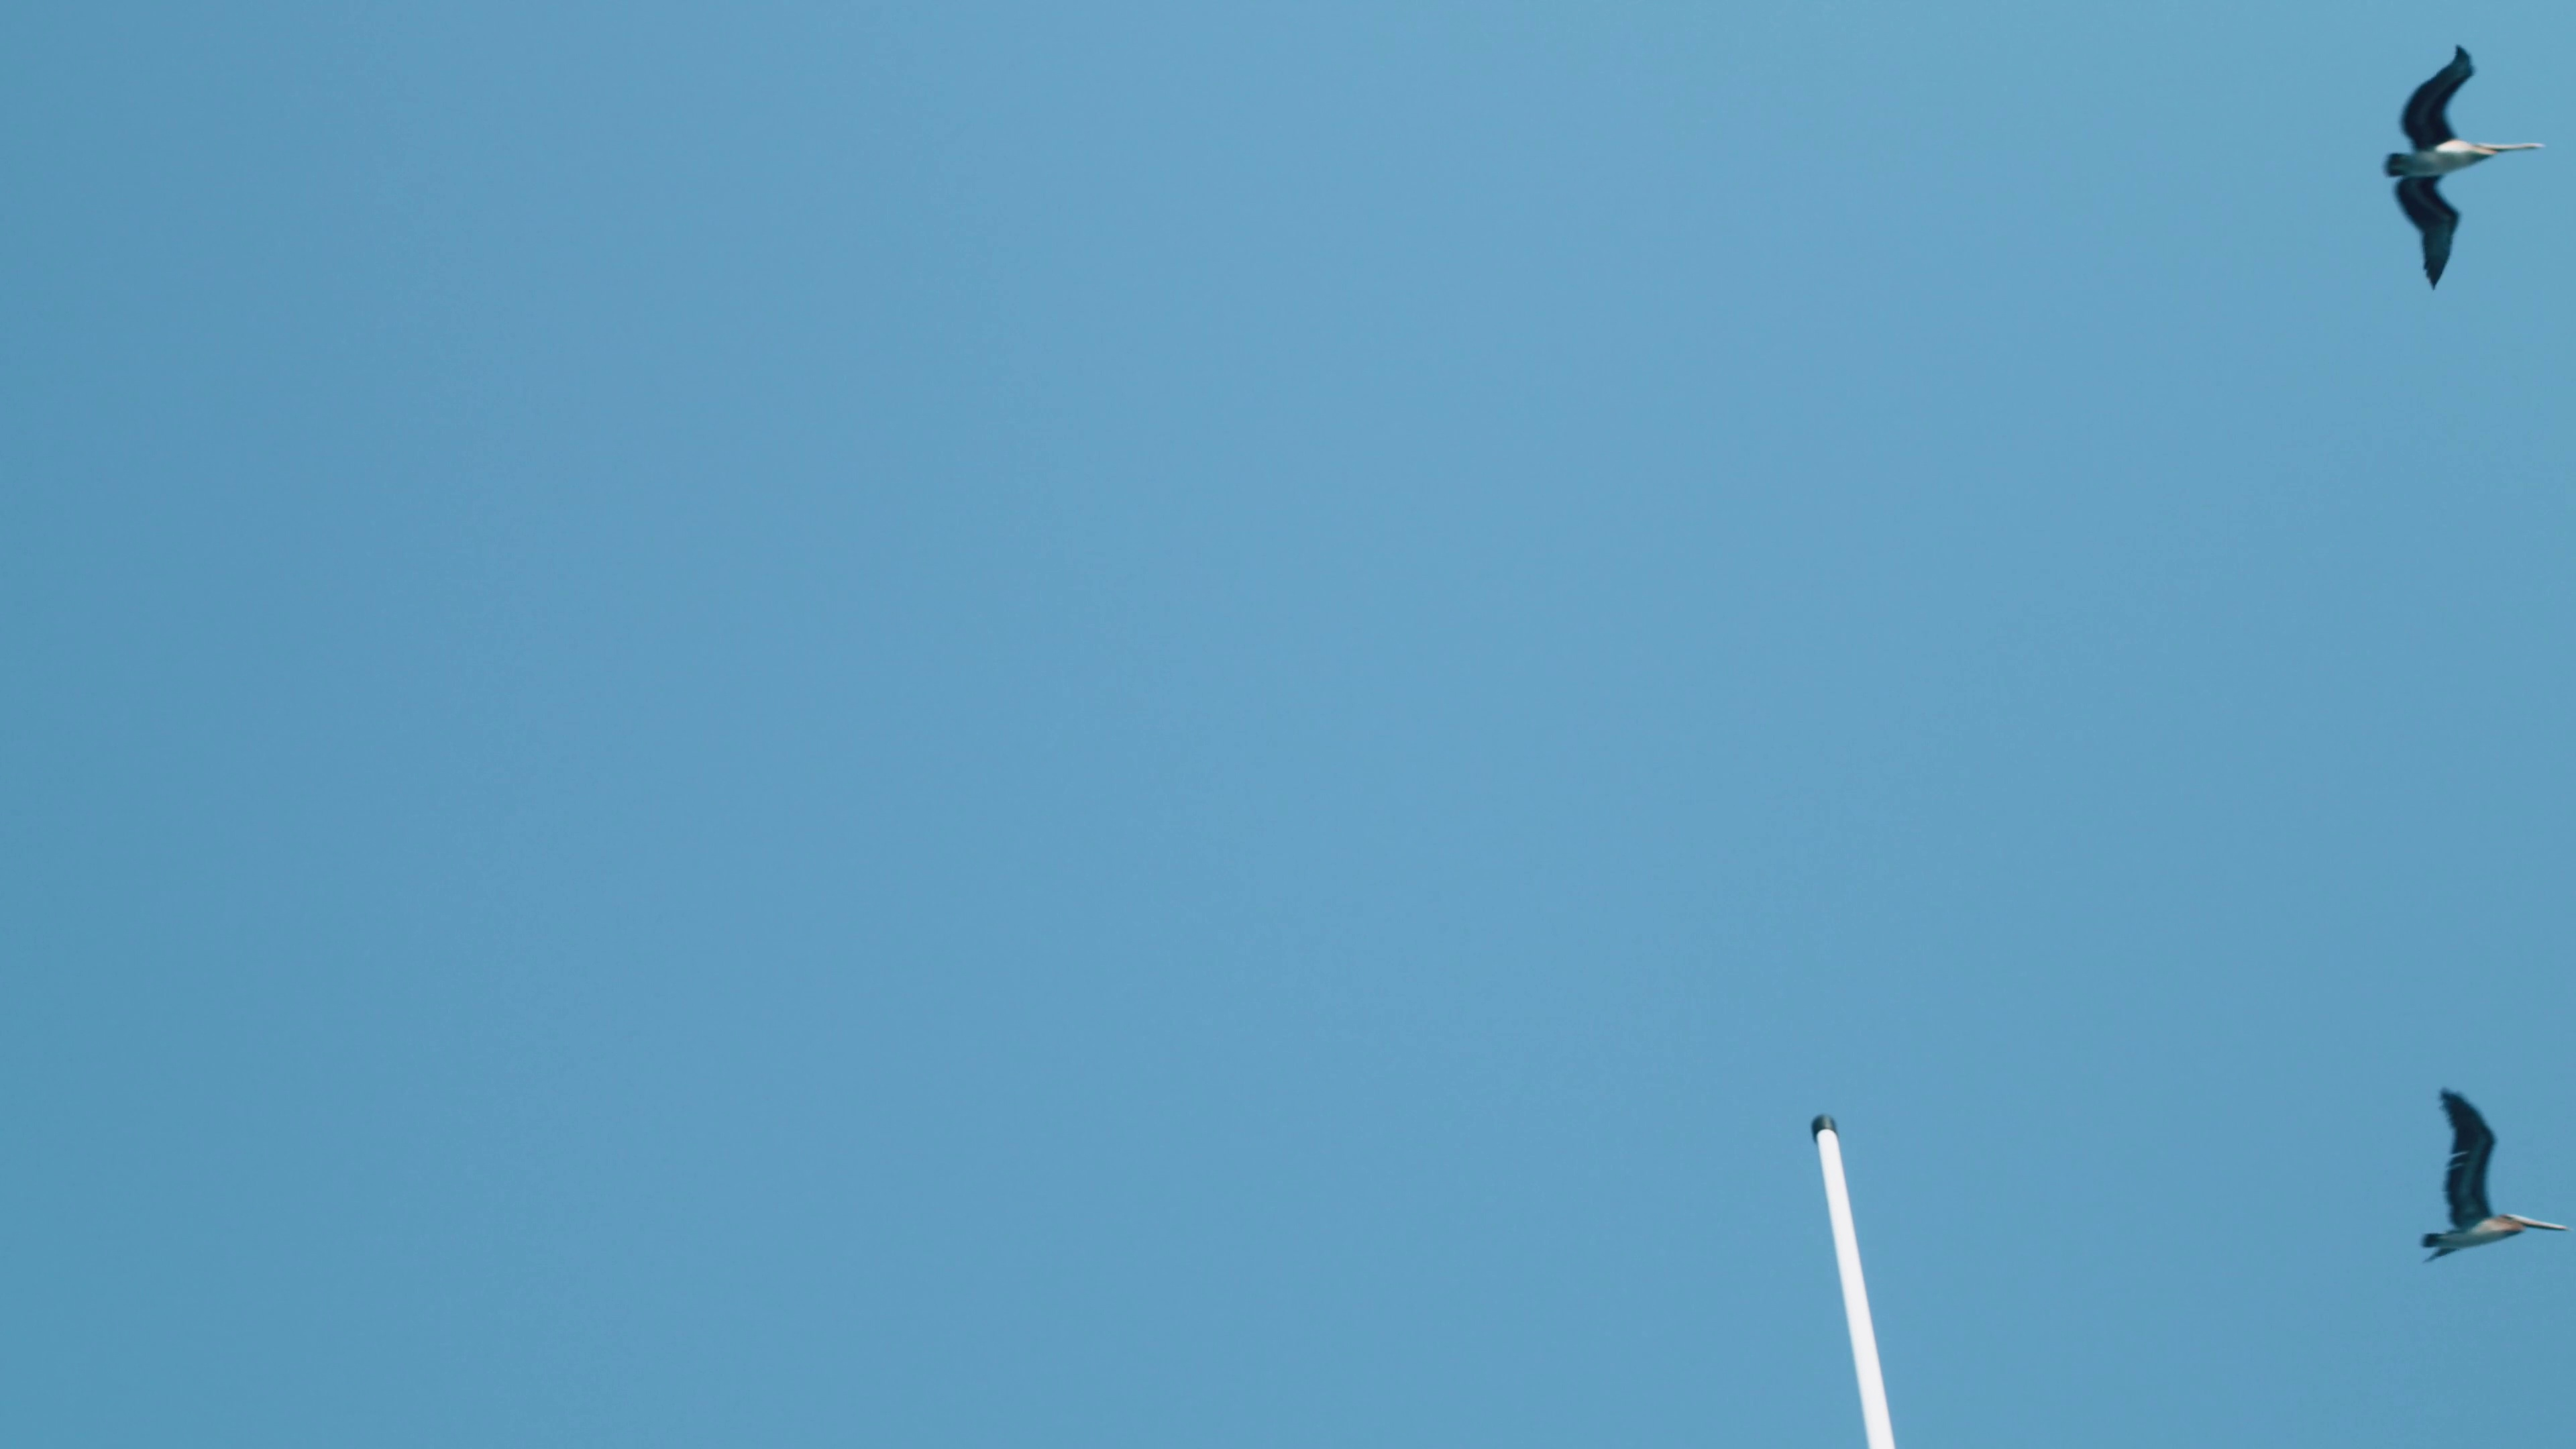bird: (2381, 44, 2544, 292), (2424, 1092, 2564, 1265)
